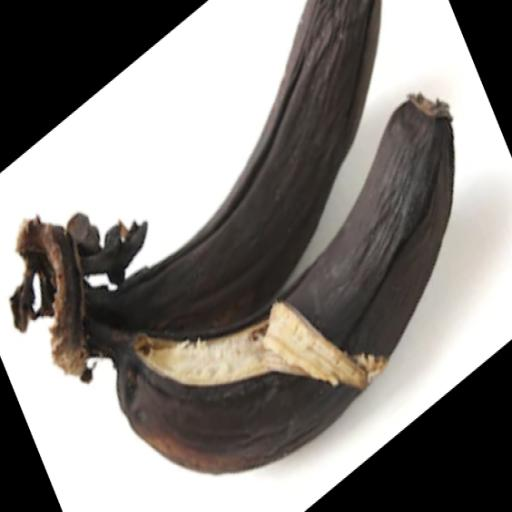banana-overripe: (28, 0, 465, 491)
